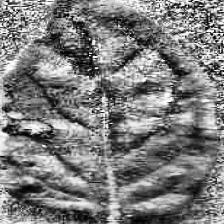disease: (0, 0, 219, 219)
